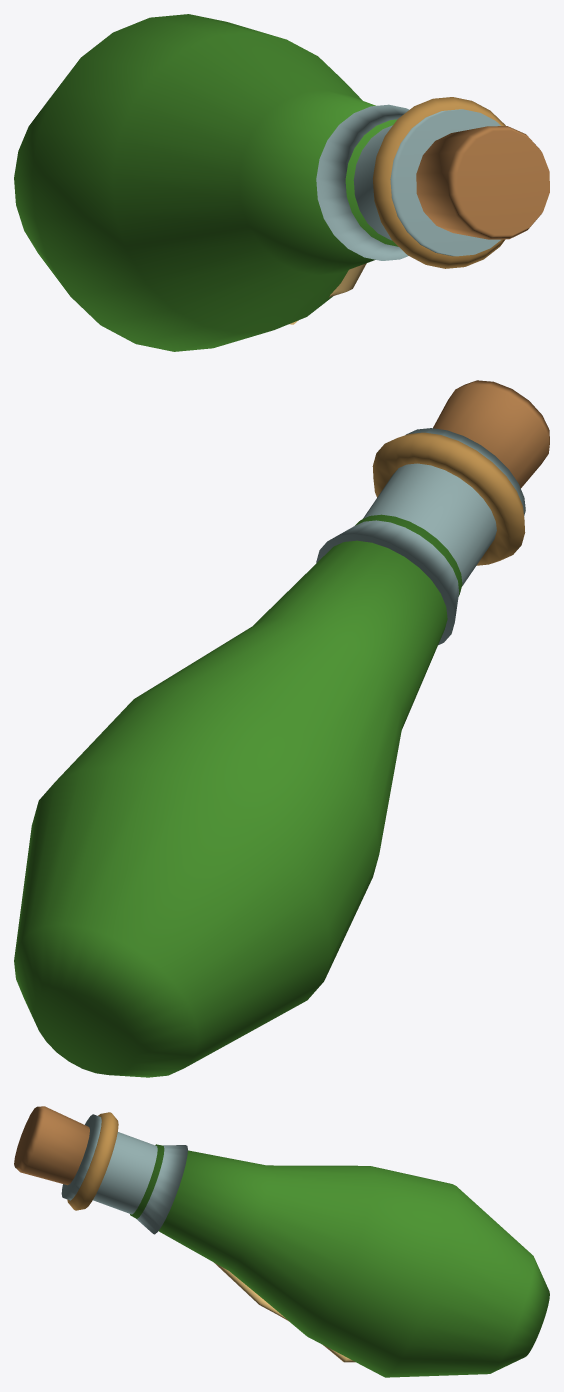
The model's file is speed.glb.
3 views of the same model, one above another, from view 1: azimuth 30°, elevation 25°; view 2: azimuth 150°, elevation 25°; view 3: azimuth 270°, elevation 25° (orthographic). The views are drawn at different scales.
Visible parts, largest first — view 1: SM_speed; view 2: SM_speed; view 3: SM_speed.
Part boxes in pixels (bbox=[...]): SM_speed: bbox=[14, 14, 549, 351]; SM_speed: bbox=[14, 380, 549, 1077]; SM_speed: bbox=[14, 1106, 549, 1377].
Size of the model in its own units: 0.146 by 0.2016 by 0.3795.
